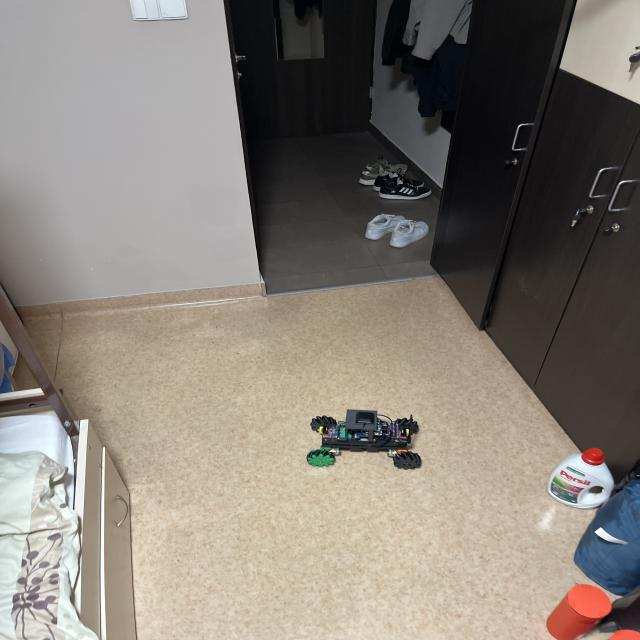robot: (307, 409, 421, 469)
